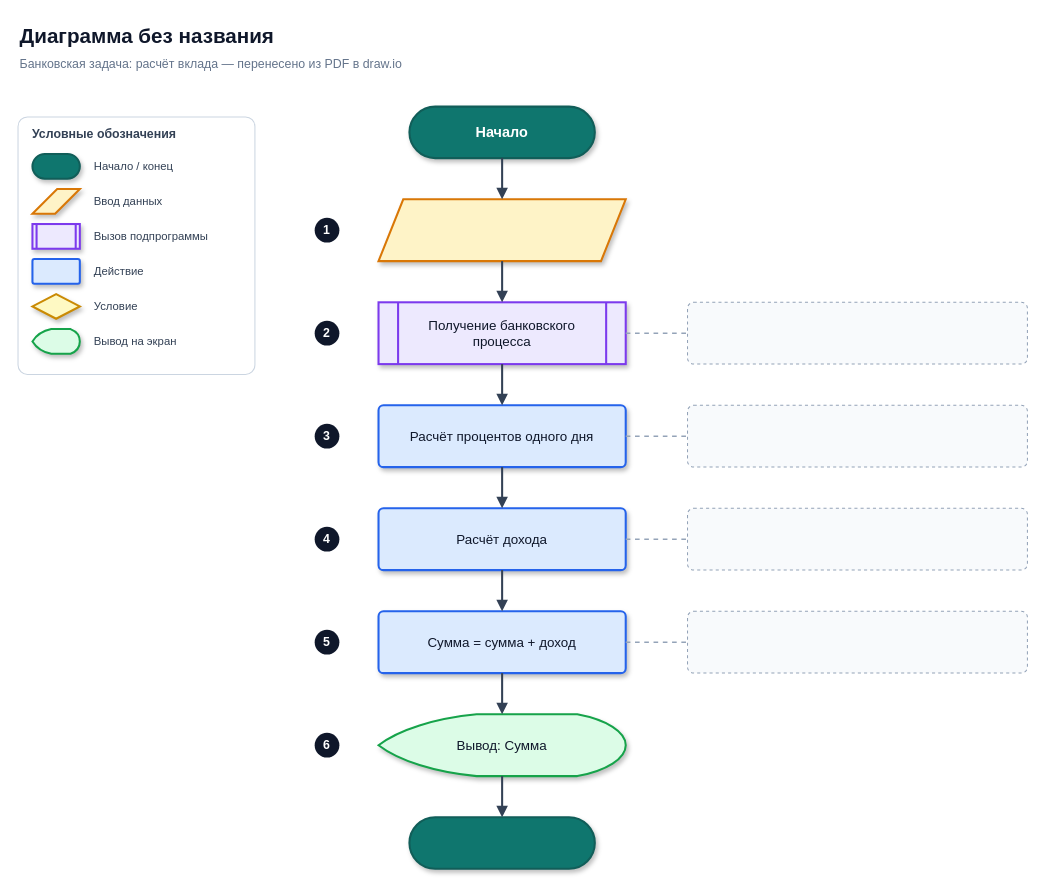
The diagram is 1045 pixels wide and 894 high, and some of its shapes have lost their labels. The shapes that lost their labels are listed below. From the top down, each one's centre as x and y in pixels, then its label:
At (502,231): "Ввод суммы и срока".
At (856,332): "Ставка по сроку вклада: 91 день — 11,5 %, 181 день — 11,75 %, 365 дней — 12,5 %".
At (856,435): "Ставка в месяц = ставка / 12 (округление до 3 знаков)".
At (856,538): "доход = сумма × ставка в месяц / 100".
At (856,641): "сумма округляется до 2 знаков".
At (503,844): "Конец".
